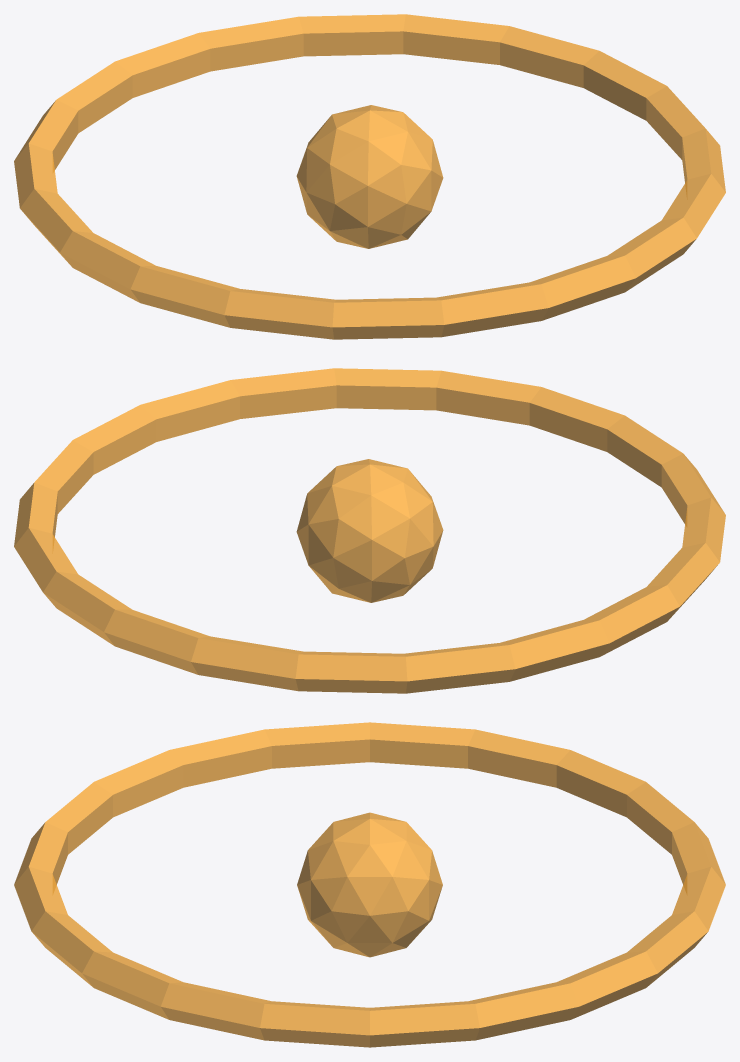
The model's file is colorblind_shape_triangle.glb.
3 views of the same model, one above another, from view 1: azimuth 30°, elevation 25°; view 2: azimuth 150°, elevation 25°; view 3: azimuth 270°, elevation 25° (orthographic).
Parts seen in each view (by area): view 1: outline_ring, marker_core; view 2: outline_ring, marker_core; view 3: outline_ring, marker_core.
Boxes of the visible parts, x1,y1,x2,y2 form: outline_ring: (14,14,725,339); marker_core: (296,105,443,248); outline_ring: (14,368,725,693); marker_core: (296,459,443,602); outline_ring: (14,722,725,1047); marker_core: (297,812,442,957).
Size of the model in its own units: 1.17 by 0.24 by 1.17.
